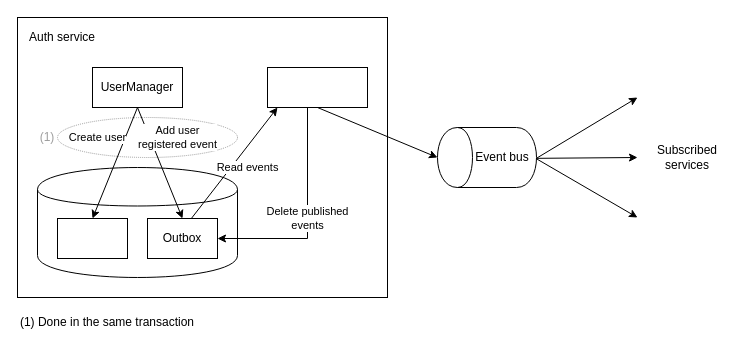
Image size: 735x355. Some labels were removed from this diagram. Here are the shapes that lost their labels. From the top down, the centre of each, then its label:
At pixel 317 87: "OutboxPublisher".
At pixel 92 238: "Users".
